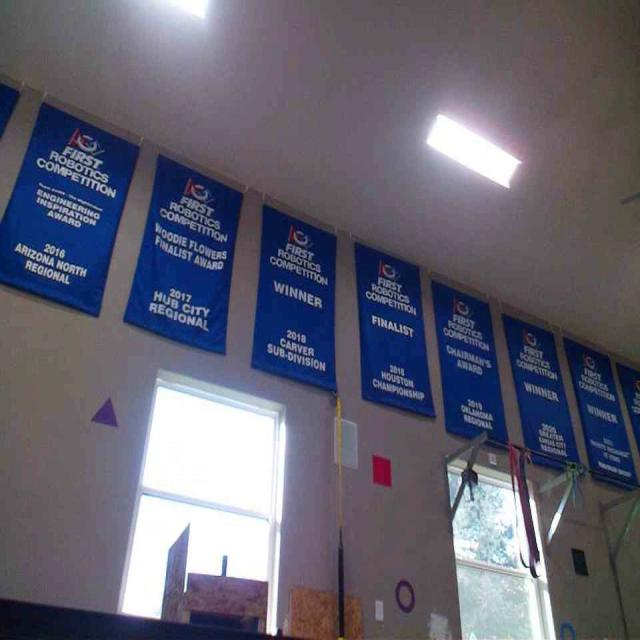ring_purple: (394, 580, 416, 612)
square_black: (570, 546, 590, 577)
square_red: (371, 453, 392, 487)
triangle_purple: (91, 394, 117, 426)
